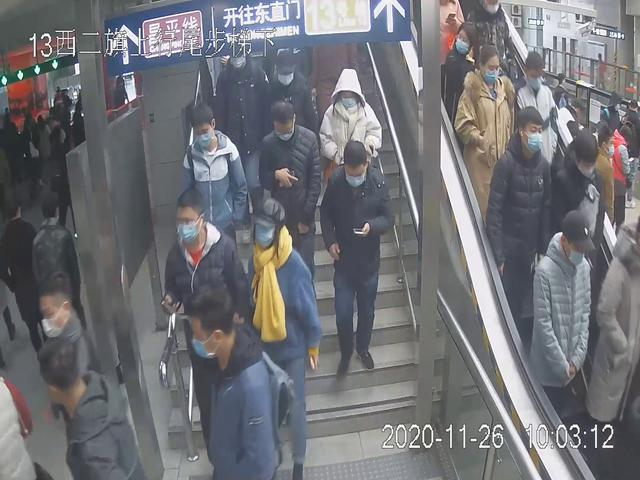person: (158, 183, 255, 480), (248, 194, 322, 480), (182, 281, 287, 480), (318, 141, 392, 383), (256, 95, 323, 345), (486, 103, 554, 343), (532, 202, 593, 447), (178, 98, 249, 287), (456, 41, 518, 250), (319, 66, 385, 231)
